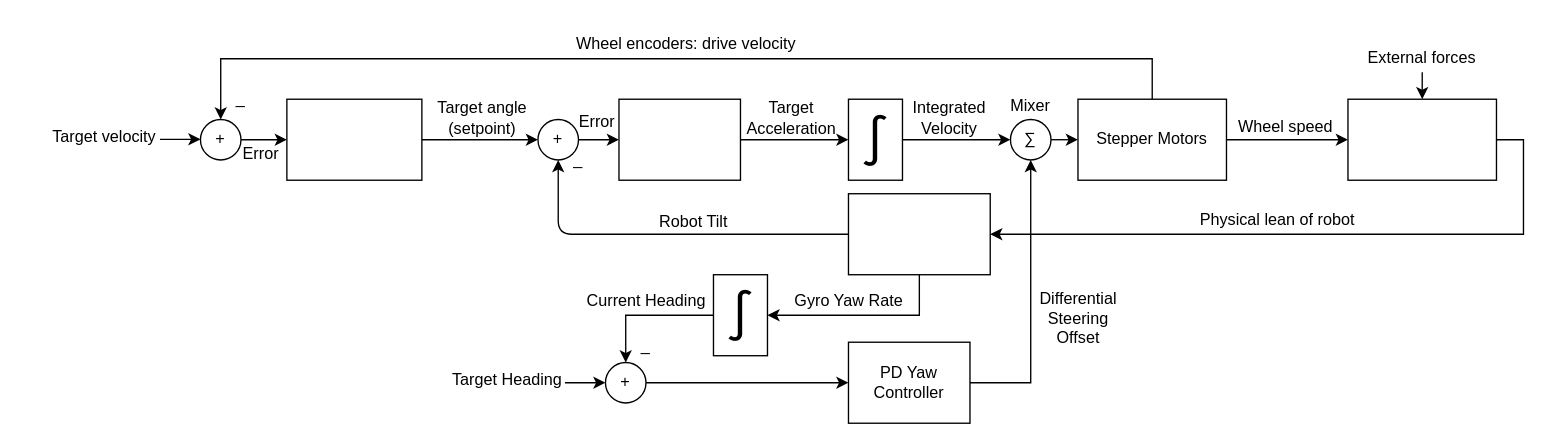
The diagram is 1558 pixels wide and 447 high, and some of its shapes have lost their labels. Each missing label, with the centre of its shape:
IMU (MPU6050): [918,233]
PI Velocity Controller: [354,139]
PID Tilt Controller: [679,139]
Robot (plant): [1421,139]
